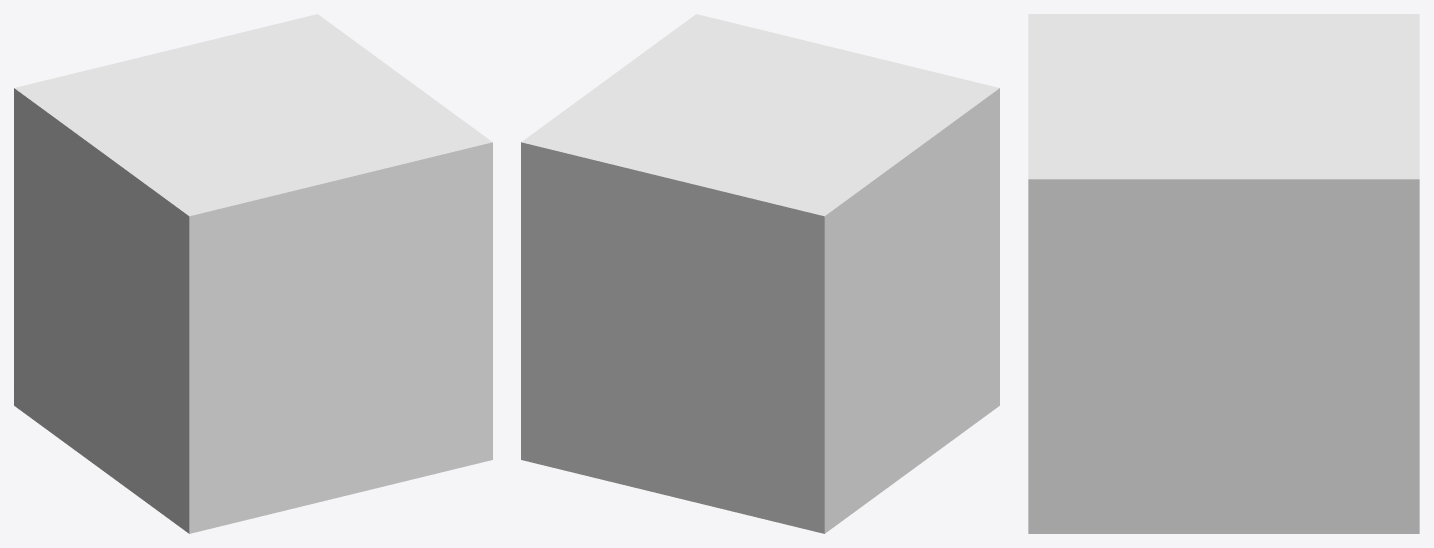
3 views of the same model, side by side, from view 1: azimuth 30°, elevation 25°; view 2: azimuth 150°, elevation 25°; view 3: azimuth 270°, elevation 25° (orthographic). The views are drawn at different scales.
Visible parts, largest first — view 1: 立方体; view 2: 立方体; view 3: 立方体.
Boxes of the visible parts, bbox=[...] form: 立方体: bbox=[14, 14, 492, 533]; 立方体: bbox=[521, 14, 999, 533]; 立方体: bbox=[1028, 14, 1419, 533].
Bounding box in the file's own units: 2 × 2 × 2.
Materials: 1 (1 with a texture image).
